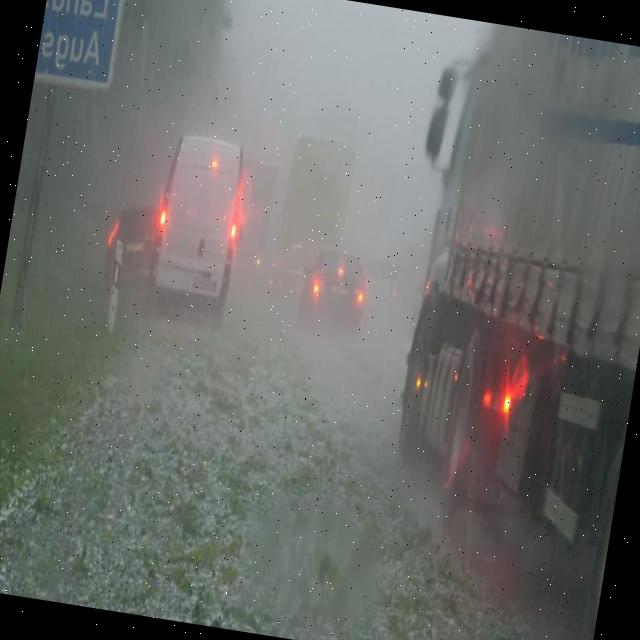bus: (352, 19, 640, 640), (270, 136, 354, 302), (225, 152, 281, 292)
car: (144, 128, 255, 322), (294, 244, 372, 332), (100, 195, 161, 297), (358, 250, 408, 313)
